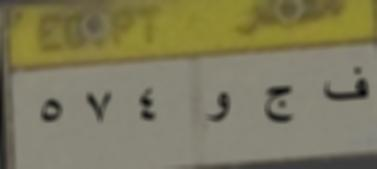4: (133, 80, 162, 126)
5: (36, 91, 66, 130)
7: (80, 84, 119, 126)
faa: (314, 64, 373, 109)
jeem: (256, 78, 300, 127)
waw: (199, 84, 236, 128)
